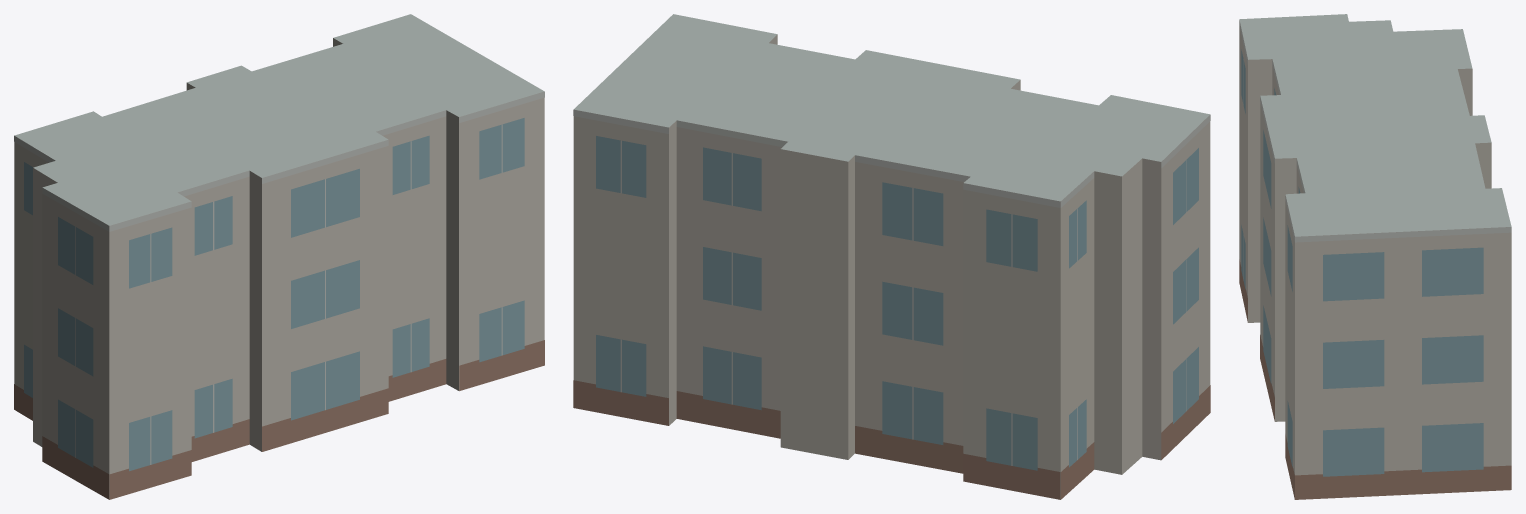
The model's file is survey-upis-32594732.glb.
3 views of the same model, side by side, from view 1: azimuth 30°, elevation 25°; view 2: azimuth 150°, elevation 25°; view 3: azimuth 270°, elevation 25° (orthographic). The views are drawn at different scales.
Parts seen in each view (by area): view 1: survey-upis-32594732.tmp; view 2: survey-upis-32594732.tmp; view 3: survey-upis-32594732.tmp.
Part boxes in pixels (x1,y1,x2,y2): survey-upis-32594732.tmp: (14,14,544,499); survey-upis-32594732.tmp: (573,14,1210,499); survey-upis-32594732.tmp: (1239,14,1511,499).
Bounding box in the file's own units: 19.98 × 11 × 10.32.
